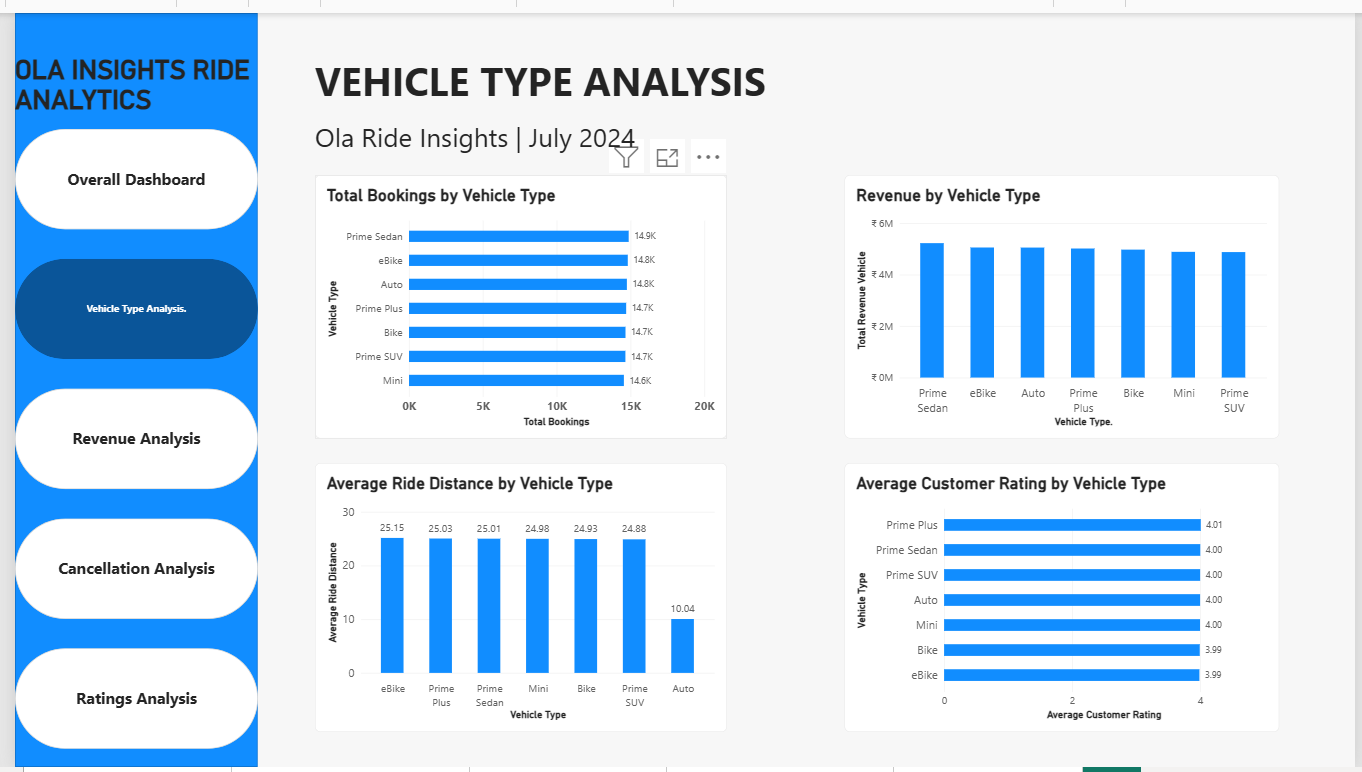

This screenshot's page, from the dashboard's own definition file:
{"tool":"powerbi","page":{"name":"Vehicle Type Analysis.","canvas":[1920,1080],"ordinal":1},"visuals":[{"type":"clusteredBarChart","title":"Total Bookings by Vehicle Type","fields":{"Category":["ola_rides_cleaned.Vehicle_Type"],"Y":["CountNonNull(ola_rides_cleaned.Booking_ID)"]},"box":[430,232.5,590,377.5],"z":0},{"type":"clusteredColumnChart","title":"Revenue by Vehicle Type","fields":{"Category":["ola_rides_cleaned.Vehicle_Type"],"Y":["ola_rides_cleaned.Total Vehicle Revenue"]},"box":[1187.5,232.5,622.5,377.5],"z":1},{"type":"clusteredColumnChart","title":"Average Ride Distance by Vehicle Type","fields":{"Category":["ola_rides_cleaned.Vehicle_Type"],"Y":["ola_rides_cleaned.Average Ride Distance"]},"box":[430,645,590,385],"z":2},{"type":"clusteredBarChart","title":"Average Customer Rating by Vehicle Type","fields":{"Category":["ola_rides_cleaned.Vehicle_Type"],"Y":["ola_rides_cleaned.Average Customer Rating"]},"box":[1187.5,645,622.5,385],"z":3},{"type":"textbox","box":[430,57.5,1380,175],"z":4},{"type":"shape","box":[0,0,347.5,1080],"z":5},{"type":"pageNavigator","box":[0,0,1000,50],"z":6},{"type":"pageNavigator","title":"OLA INSIGHTS  RIDE ANALYTICS","box":[0,57.3,348.3,997.3],"z":7}]}

Visuals, with their boxes on the page's 1920x1080 design canvas (x1, y1, x2, y2). These are canvas units, not pixel positions in the 1362x772 screenshot, which may show the page scaled, cropped or inside an application window:
"Total Bookings by Vehicle Type" clusteredBarChart: [430, 232, 1020, 610]
"Revenue by Vehicle Type" clusteredColumnChart: [1188, 232, 1810, 610]
"Average Ride Distance by Vehicle Type" clusteredColumnChart: [430, 645, 1020, 1030]
"Average Customer Rating by Vehicle Type" clusteredBarChart: [1188, 645, 1810, 1030]
textbox: [430, 58, 1810, 232]
shape: [0, 0, 348, 1080]
pageNavigator: [0, 0, 1000, 50]
"OLA INSIGHTS  RIDE ANALYTICS" pageNavigator: [0, 57, 348, 1055]
